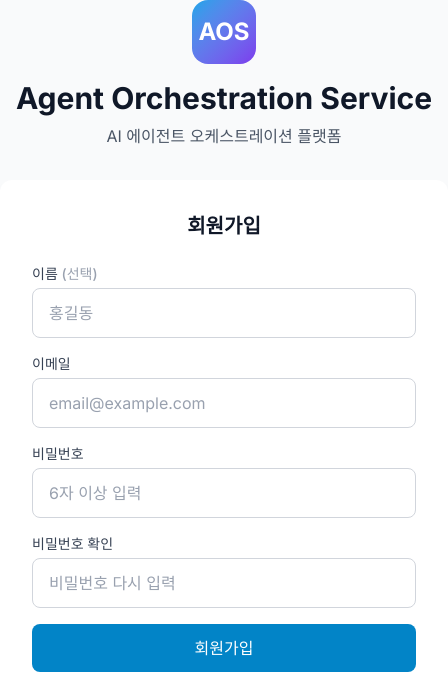
Scenario: RegisterPage › shows error on registration failure
The width and height of the screenshot is (448, 687).
In the field labelled "이메일": point(224, 403) 32,378 -> 416,428, type "test@test.com"
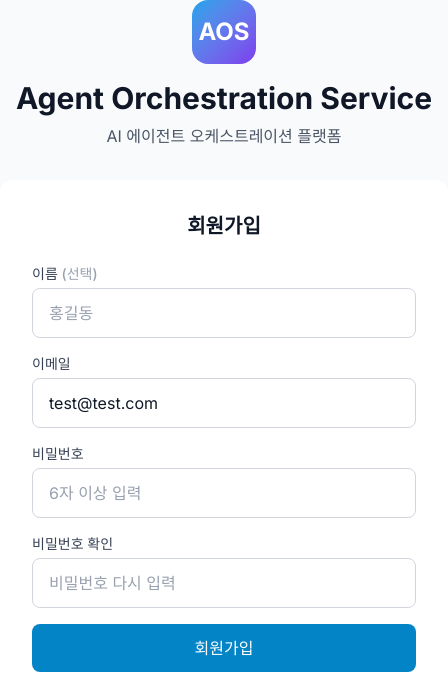
In the password field labelled "비밀번호": point(224, 493) 32,468 -> 416,518, type "password123"
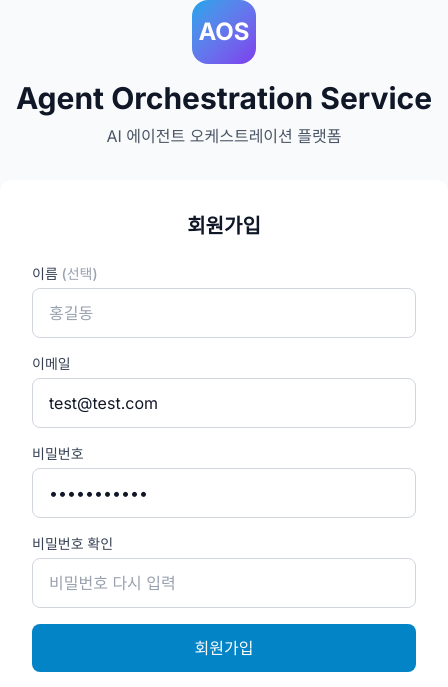
In the password field labelled "비밀번호 확인": point(224, 583) 32,558 -> 416,608, type "password123"
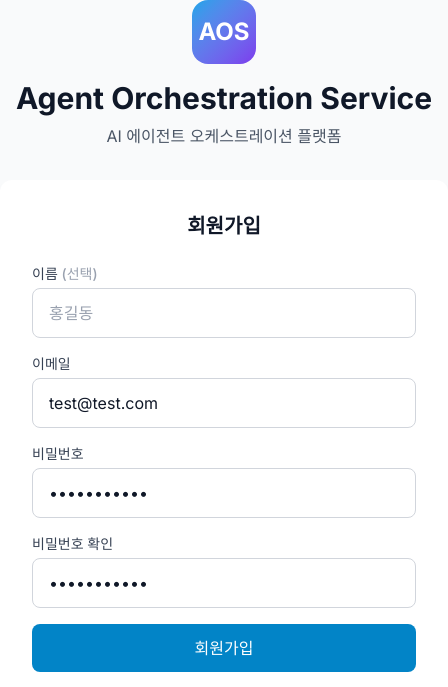
Submit the form from the button "회원가입", box 32,624 -> 416,672
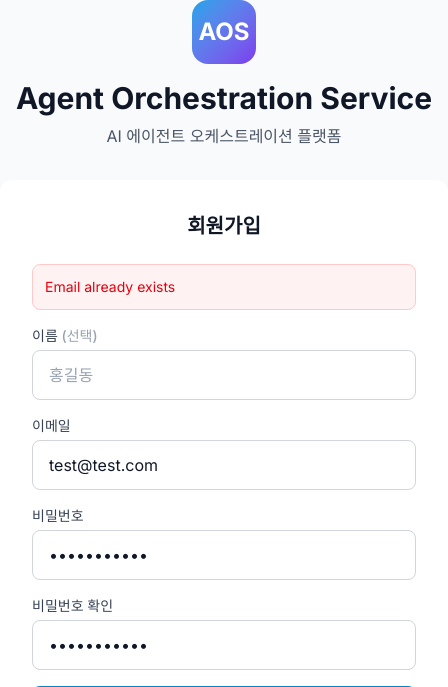
expect the text "Email already exists" is shown: met, box 32,264 -> 416,310
